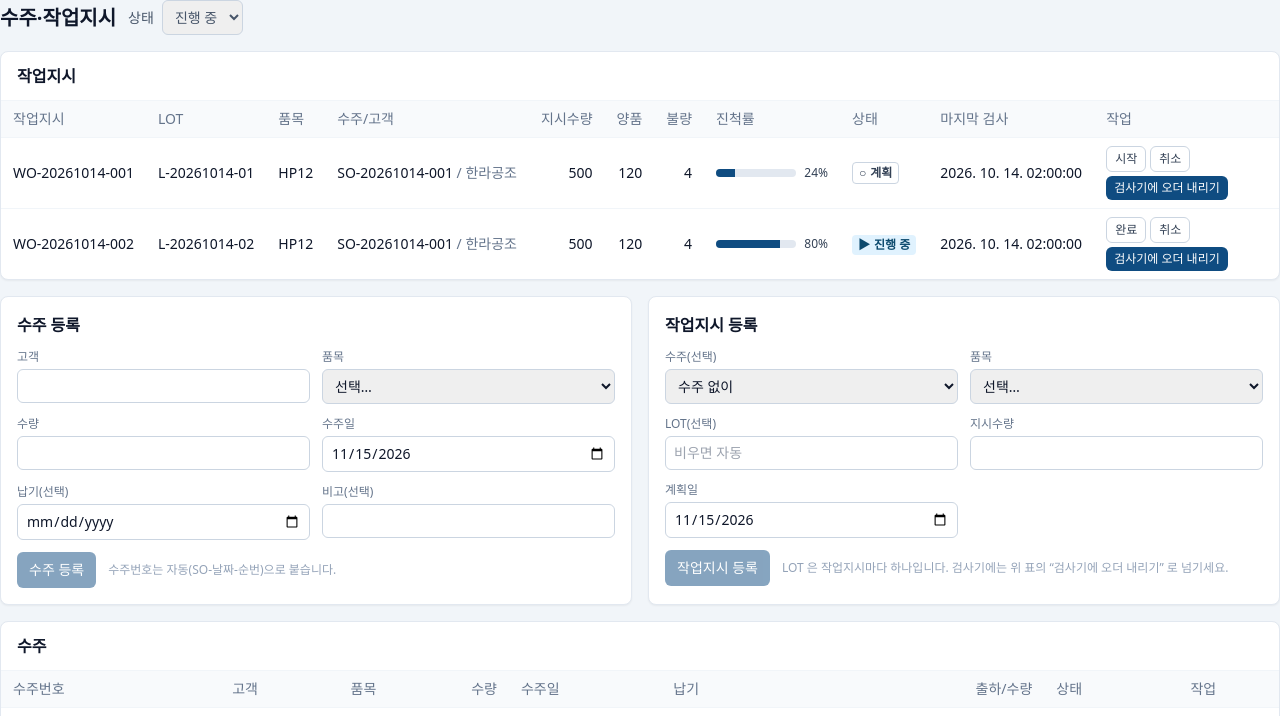
MesOrdersPage — 검사기에 오더 내리기 › 이미 진행 중(RUNNING)이면 오더만 다시 내리고 상태는 건드리지 않는다
Click the button with test id "wo-dispatch-2" at (1167, 259), box [1106, 247, 1228, 271]
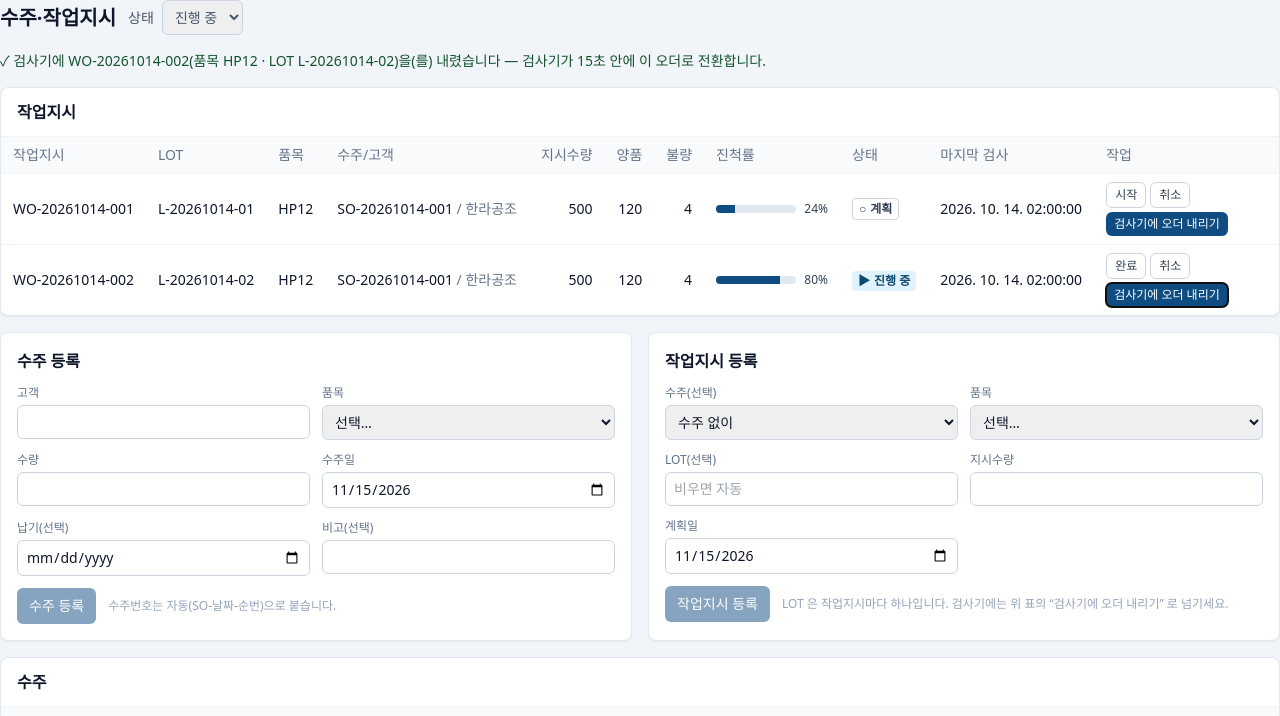
Result: the message with test id "wo-msg" shows "15초" at [13, 51, 766, 70]
